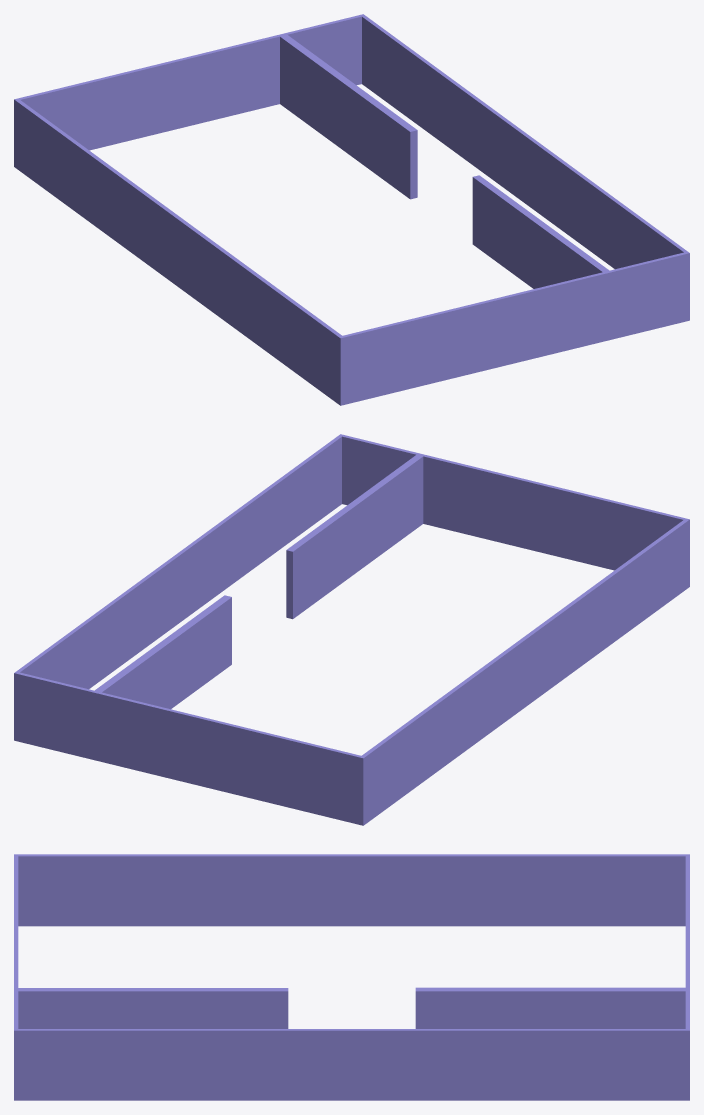
File: wall1.fbx
3 views of the same model, one above another, from view 1: azimuth 30°, elevation 25°; view 2: azimuth 150°, elevation 25°; view 3: azimuth 270°, elevation 25° (orthographic). The views are drawn at different scales.
Parts seen in each view (by area): view 1: wall_1f; view 2: wall_1f; view 3: wall_1f.
Boxes of the visible parts, x1,y1,x2,y2 form: wall_1f: (14,14,689,405); wall_1f: (14,434,689,825); wall_1f: (14,854,689,1100).
Size of the model in its own units: 14088 by 2600 by 22800.
